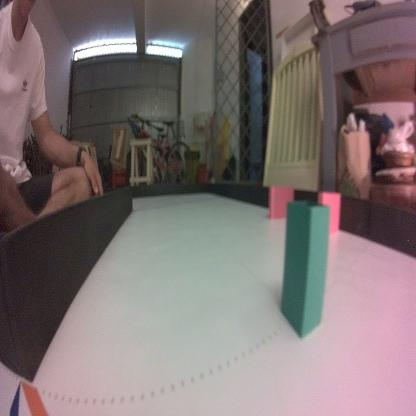green: (279, 199, 329, 335)
magenta: (318, 188, 342, 232), (268, 182, 295, 219)
